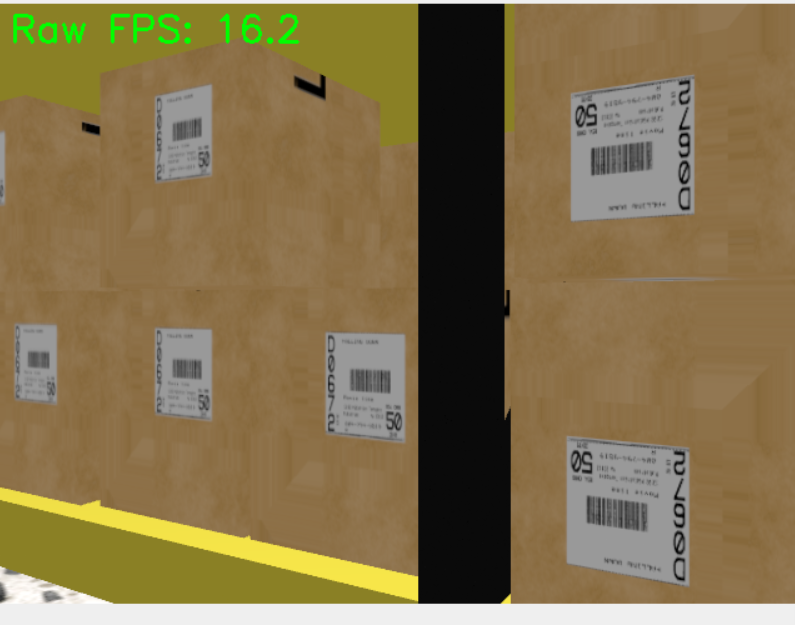barcode: (565, 435, 690, 587), (570, 74, 695, 222), (323, 329, 408, 442), (154, 84, 215, 183), (153, 326, 213, 420), (14, 323, 58, 403)
